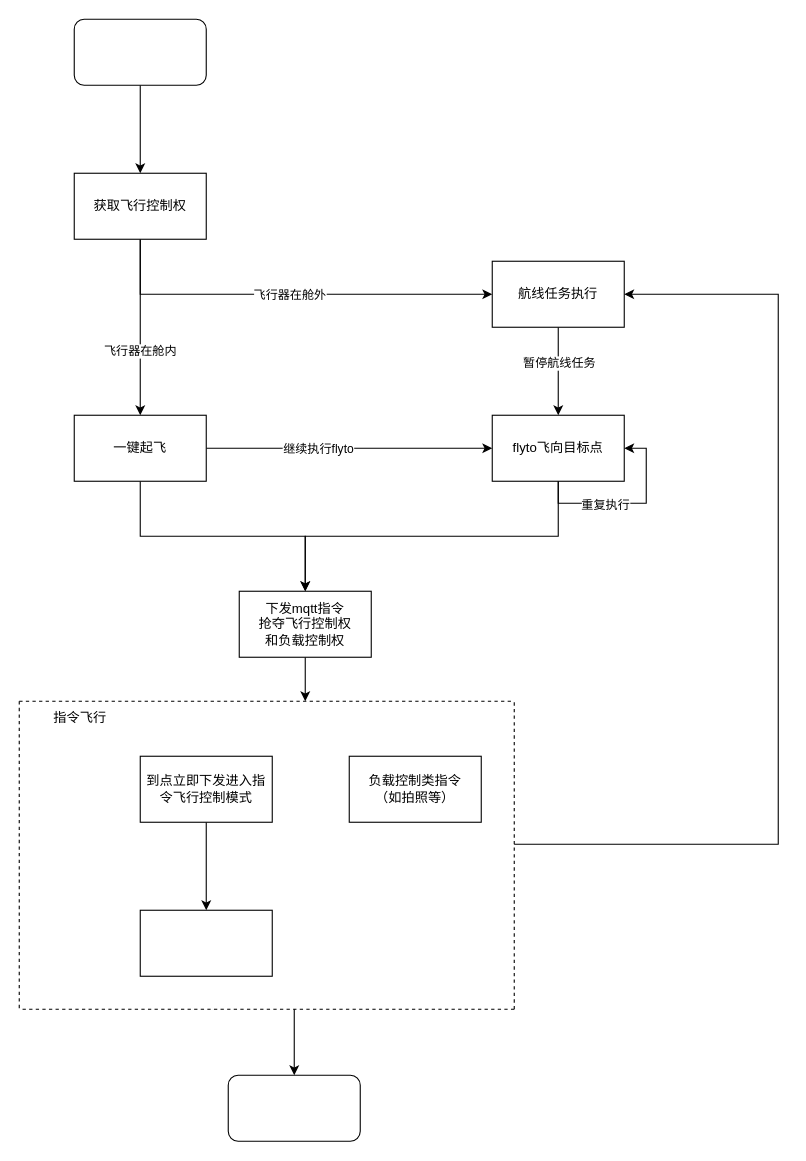
The diagram is 806 pixels wide and 1161 high, and some of its shapes have lost their labels. The centre of each missing label's shape, as x and y in pixels:
开始: the point at 139,51
执行飞行控制类指令（上下左右等动作）: the point at 205,942
结束: the point at 293,1107
